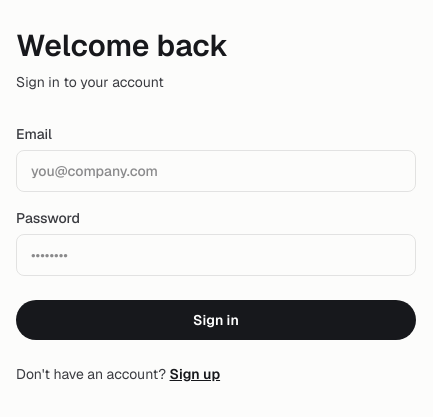
Test: LoginForm › shows the server's error message and does not redirect on failure
This screenshot has width=433, height=417.
In the field with placeholder "you@company.com": [216, 170] box [16,150,416,192], type "jane@example.com"
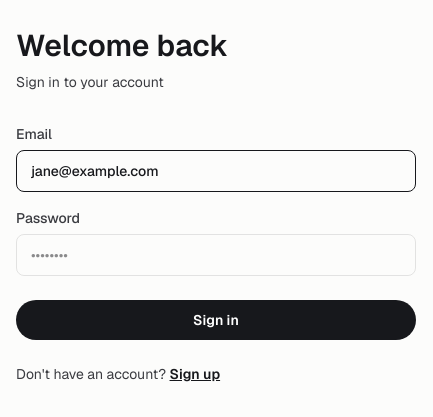
In the password field with placeholder "••••••••": [216, 254] box [16,234,416,276], type "wrongpassword"
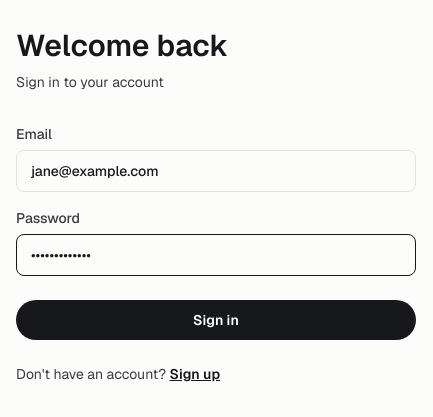
Click the button "Sign in": [216, 320] box [16,300,416,340]
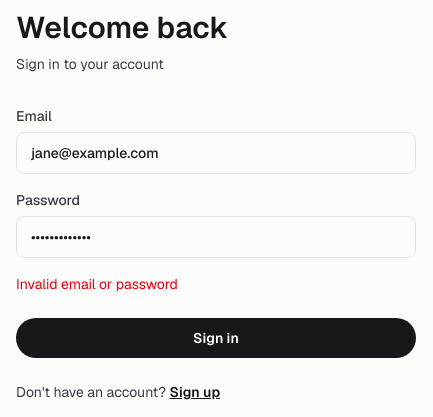
Check: the text "Invalid email or password" is shown, box [16,274,178,292]
